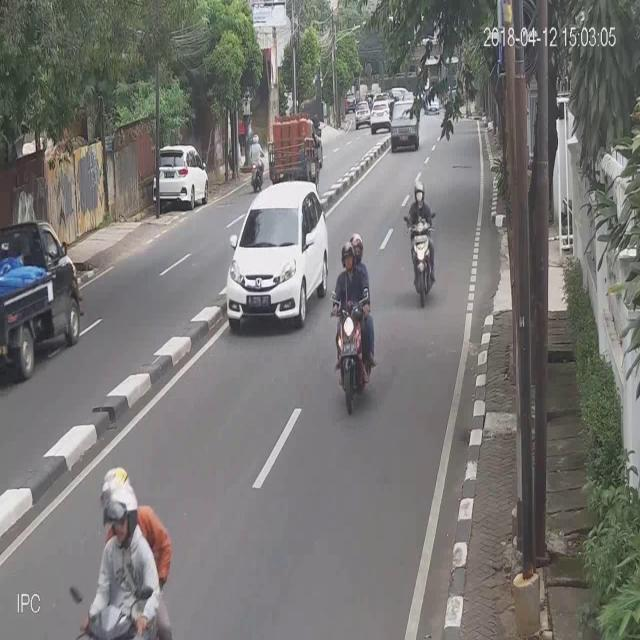bus: (326, 229, 377, 417), (399, 174, 439, 315), (245, 130, 265, 194)
motorcycle: (225, 174, 327, 340), (154, 137, 210, 214), (390, 100, 418, 152), (372, 98, 390, 134), (355, 98, 371, 130)
